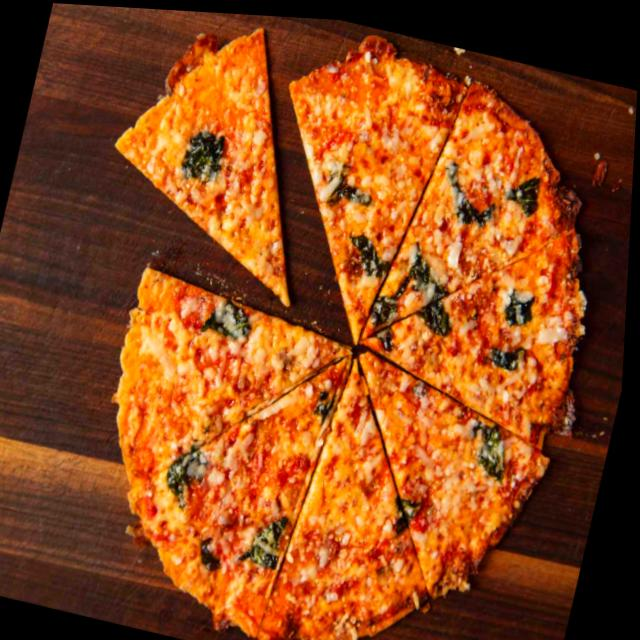pizza: (15, 2, 636, 640)
